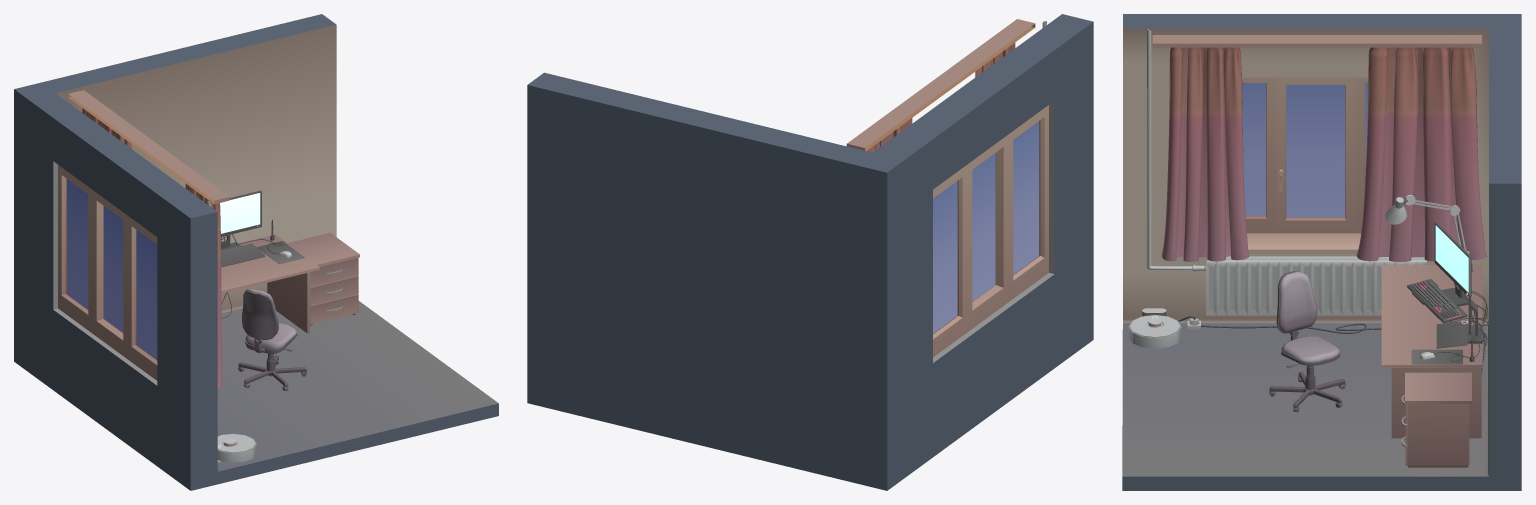
File: my_room.glb
3 renders of one model, left to right at view 1: azimuth 30°, elevation 25°; view 2: azimuth 150°, elevation 25°; view 3: azimuth 270°, elevation 25°, orthographic. The views are drawn at different scales.
Parts seen in each view (by area): view 1: body1, window4, window, table, cabin, railing, chair_body, _________6_blinn1_0, emis, vacuum1, pillows, tablet (+1 smaller); view 2: body1, window4, window, railing; view 3: body1, _________6_blinn1_0, window4, window, radiator, table, cabin, railing, pillows, vacuum1, chair_body, emis (+7 smaller).
Part boxes in pixels (x1,y1,x2,y2): body1: (14,14,498,490); window4: (66,179,157,359); window: (58,165,157,380); table: (221,234,319,333); cabin: (287,233,359,325); railing: (68,90,229,204); chair_body: (238,290,306,390); _________6_blinn1_0: (82,108,222,387); emis: (218,193,281,447); vacuum1: (217,434,256,462); pillows: (245,289,296,349); tablet: (221,243,265,266); body1: (527,14,1093,490); window4: (933,121,1039,333); window: (933,105,1048,357); railing: (846,19,1035,151); body1: (1122,14,1521,490); _________6_blinn1_0: (1161,47,1486,261); window4: (1242,82,1368,217); window: (1242,77,1368,253); radiator: (1147,28,1426,315); table: (1381,265,1482,438); cabin: (1405,372,1471,467); railing: (1152,35,1481,47); pillows: (1278,272,1339,362); vacuum1: (1128,308,1198,348); chair_body: (1269,271,1345,412); emis: (1152,225,1468,353).
Bounding box in the file's own units: 25.71 × 21.79 × 25.58.
